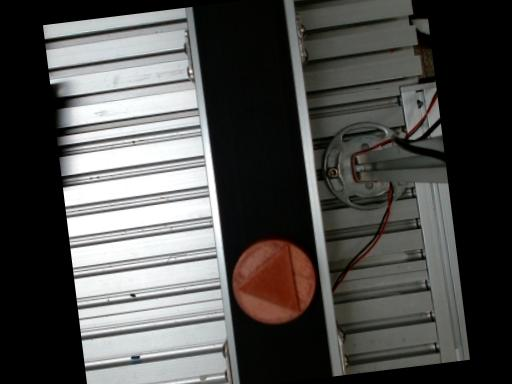Brown_Waper: (232, 239, 315, 324)
Not_Square: (232, 242, 299, 313)
